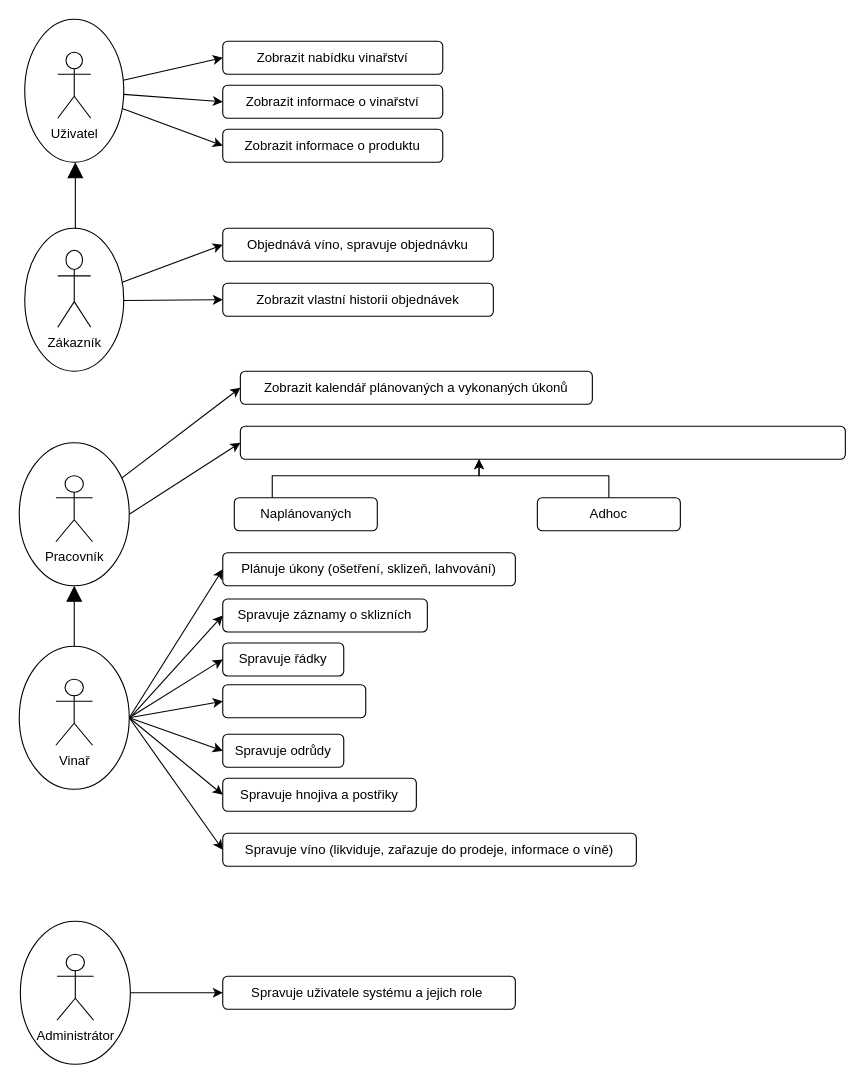
Some shapes in this 865 by 1084 pixel diagram are drawn without their labels. The shapes that lost their labels are listed below. From the top down, each one's centre as x and y in pixels, then its label:
At point 542,442: "Zaznamenává vykonané úkony (ošetření, sklizeň, lahvování)".
At point 294,701: "Spravuje vinohrady".
